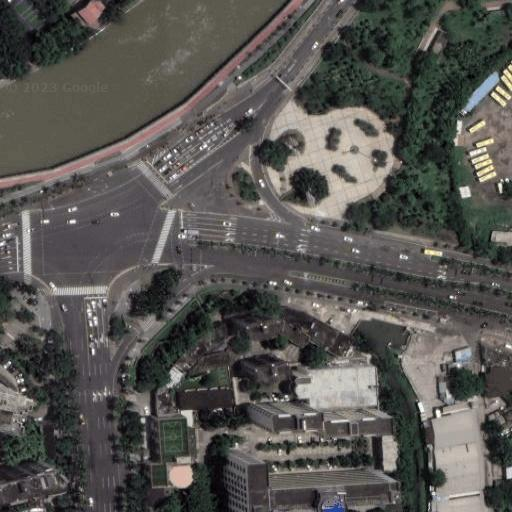building: (223, 448, 376, 512), (272, 309, 354, 361), (287, 360, 369, 403), (427, 443, 484, 501), (173, 321, 232, 374), (147, 415, 190, 486), (452, 58, 504, 111), (424, 410, 478, 448), (307, 408, 377, 430), (157, 366, 185, 416), (271, 313, 311, 347), (179, 387, 234, 409), (255, 404, 307, 426), (0, 375, 24, 422), (429, 495, 485, 512), (235, 313, 273, 336), (381, 425, 399, 472), (480, 340, 512, 366), (486, 367, 512, 398), (240, 353, 277, 374), (435, 374, 457, 407), (488, 406, 512, 435), (435, 402, 474, 419), (40, 425, 55, 458), (487, 226, 512, 243), (146, 484, 164, 507), (454, 347, 472, 363), (444, 362, 463, 375), (503, 386, 512, 404), (505, 466, 512, 480)
